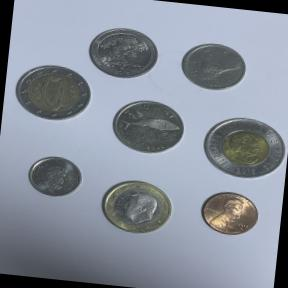coin: (191, 108, 288, 193), (91, 172, 183, 244), (104, 90, 192, 163), (11, 60, 96, 128), (83, 23, 163, 84), (193, 182, 268, 242), (22, 150, 89, 206)
